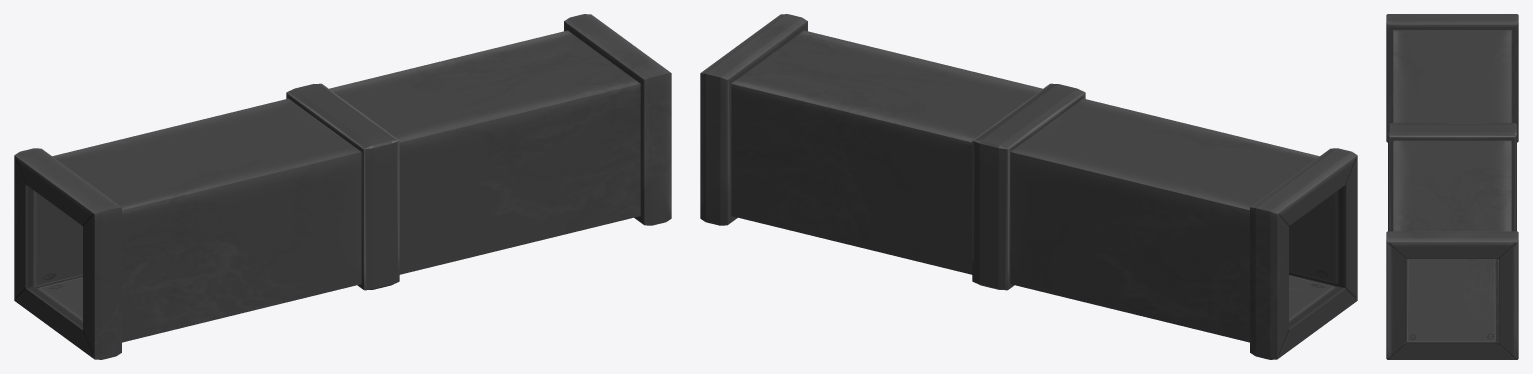
File: VenTube 1.fbx
3 views of the same model, side by side, from view 1: azimuth 30°, elevation 25°; view 2: azimuth 150°, elevation 25°; view 3: azimuth 270°, elevation 25° (orthographic). The views are drawn at different scales.
Visible parts, largest first — view 1: Cube; view 2: Cube; view 3: Cube.
Part boxes in pixels (x1,y1,x2,y2): Cube: [14, 14, 671, 359]; Cube: [700, 14, 1357, 359]; Cube: [1386, 14, 1518, 359].
Bounding box in the file's own units: 914 × 224 × 224.
